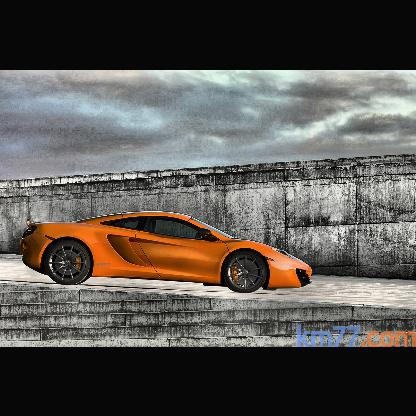McLaren MP4-12C Coupe 2012: (22, 211, 314, 294)
